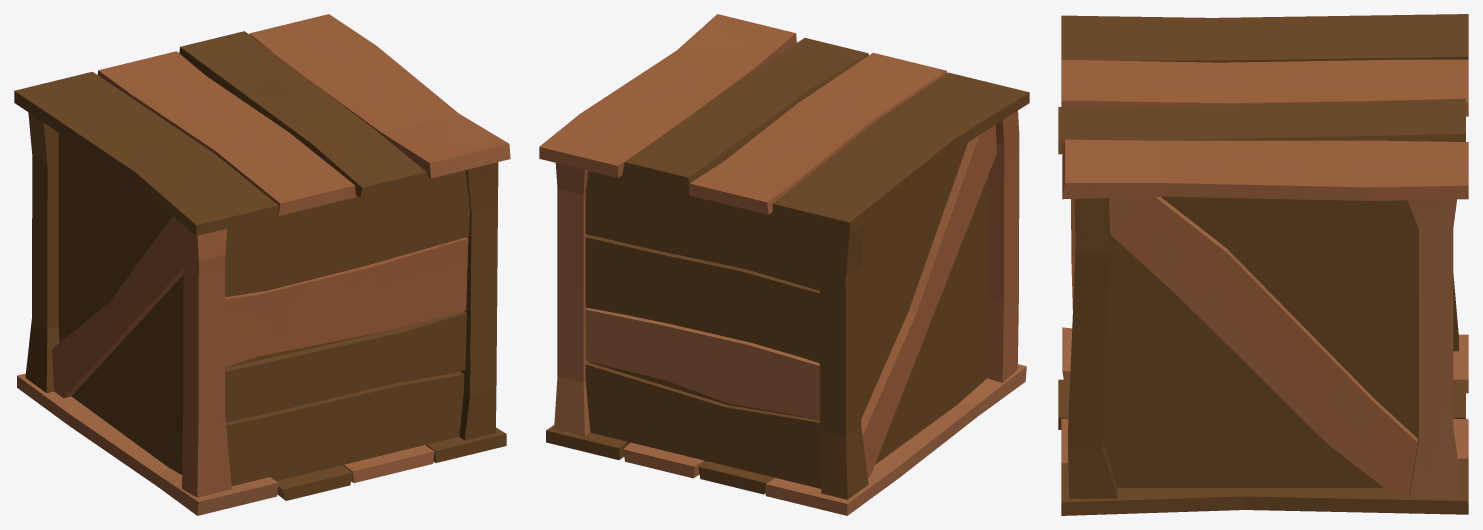
3 renders of one model, left to right at view 1: azimuth 30°, elevation 25°; view 2: azimuth 150°, elevation 25°; view 3: azimuth 270°, elevation 25°, orthographic. The views are drawn at different scales.
Visible parts, largest first — view 1: Box; view 2: Box; view 3: Box.
Boxes of the visible parts, x1,y1,x2,y2 form: Box: (14, 14, 510, 515); Box: (539, 14, 1029, 515); Box: (1058, 14, 1468, 515).
Bounding box in the file's own units: 0.6002 × 0.5454 × 0.6.
Materials: 1 (1 with a texture image).
